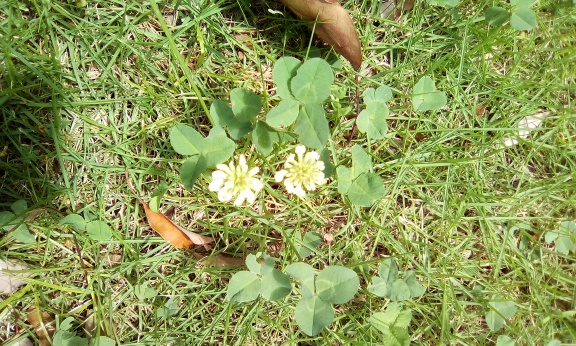4leaf: (266, 57, 335, 150)
